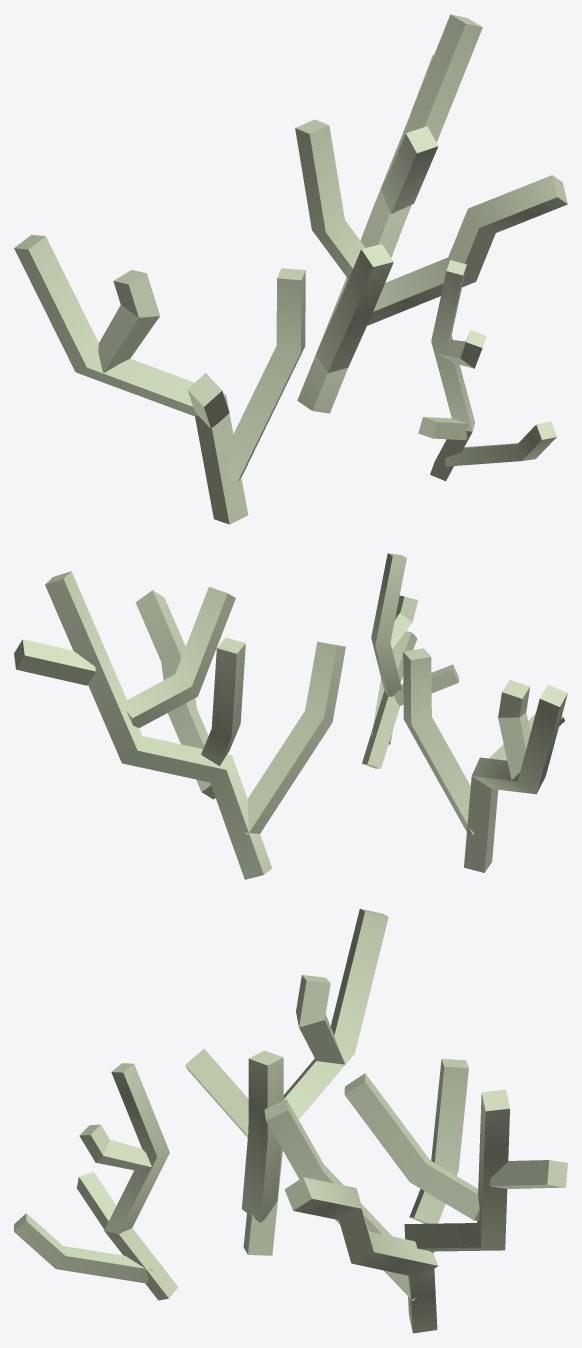
Rendered from PL002_PlantB03.FBX.
3 views of the same model, one above another, from view 1: azimuth 30°, elevation 25°; view 2: azimuth 150°, elevation 25°; view 3: azimuth 270°, elevation 25° (orthographic). The views are drawn at different scales.
Parts seen in each view (by area): view 1: PL002_PlantB03; view 2: PL002_PlantB03; view 3: PL002_PlantB03.
Boxes of the visible parts, x1=… form: PL002_PlantB03: x1=14, y1=14, x2=567, y2=524; PL002_PlantB03: x1=14, y1=553, x2=567, y2=879; PL002_PlantB03: x1=14, y1=908, x2=567, y2=1333.
Size of the model in its own units: 209 by 124 by 188.
Materials: 1 (1 with a texture image).
